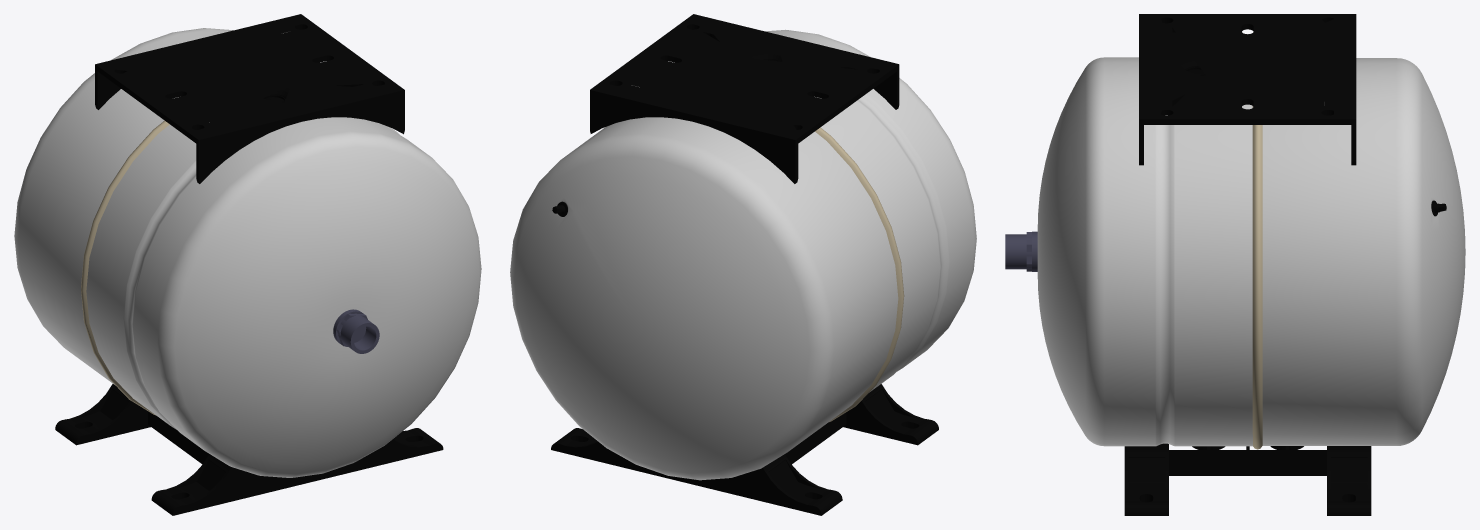
File: 36lt-sabit-tank-yatay.obj
3 views of the same model, side by side, from view 1: azimuth 30°, elevation 25°; view 2: azimuth 150°, elevation 25°; view 3: azimuth 270°, elevation 25° (orthographic). The views are drawn at different scales.
Parts seen in each view (by area): view 1: 36lt-sabit-tank-yatay, 36lt-sabit-tank-yatay.013, 36lt-sabit-tank-yatay.014, 36lt-sabit-tank-yatay.011, 36lt-sabit-tank-yatay.005, 36lt-sabit-tank-yatay.004; view 2: 36lt-sabit-tank-yatay.014, 36lt-sabit-tank-yatay.013, 36lt-sabit-tank-yatay, 36lt-sabit-tank-yatay.011, 36lt-sabit-tank-yatay.005; view 3: 36lt-sabit-tank-yatay, 36lt-sabit-tank-yatay.014, 36lt-sabit-tank-yatay.013, 36lt-sabit-tank-yatay.011, 36lt-sabit-tank-yatay.005, 36lt-sabit-tank-yatay.004.
Boxes of the visible parts, bbox=[...] form: 36lt-sabit-tank-yatay: bbox=[86, 117, 481, 477]; 36lt-sabit-tank-yatay.013: bbox=[95, 14, 404, 183]; 36lt-sabit-tank-yatay.014: bbox=[14, 28, 233, 385]; 36lt-sabit-tank-yatay.011: bbox=[55, 384, 443, 515]; 36lt-sabit-tank-yatay.005: bbox=[81, 120, 169, 415]; 36lt-sabit-tank-yatay.004: bbox=[333, 309, 379, 353]; 36lt-sabit-tank-yatay.014: bbox=[510, 117, 898, 480]; 36lt-sabit-tank-yatay.013: bbox=[590, 14, 899, 183]; 36lt-sabit-tank-yatay: bbox=[765, 29, 976, 392]; 36lt-sabit-tank-yatay.011: bbox=[551, 384, 938, 515]; 36lt-sabit-tank-yatay.005: bbox=[815, 127, 904, 421]; 36lt-sabit-tank-yatay: bbox=[1037, 57, 1252, 446]; 36lt-sabit-tank-yatay.014: bbox=[1262, 58, 1465, 445]; 36lt-sabit-tank-yatay.013: bbox=[1139, 14, 1356, 165]; 36lt-sabit-tank-yatay.011: bbox=[1124, 443, 1371, 515]; 36lt-sabit-tank-yatay.005: bbox=[1252, 106, 1262, 449]; 36lt-sabit-tank-yatay.004: bbox=[1005, 231, 1037, 271].
Bounding box in the file's own units: 1.17 × 1.23 × 1.35.
